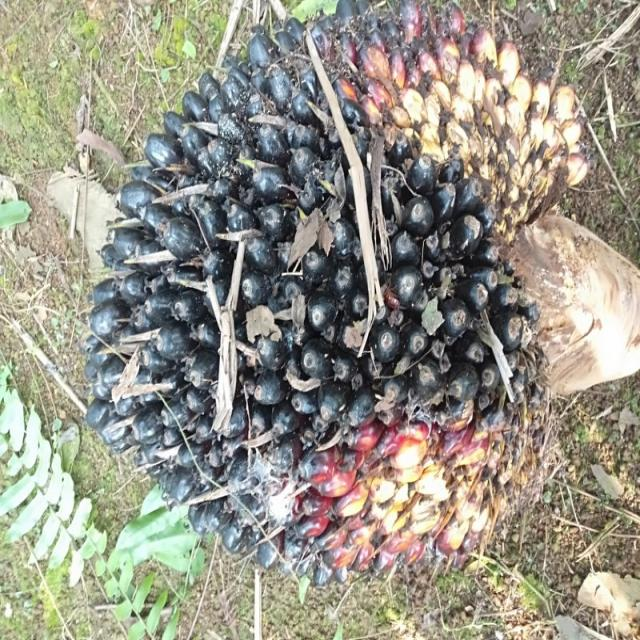fraksi 00: (75, 14, 628, 602)
